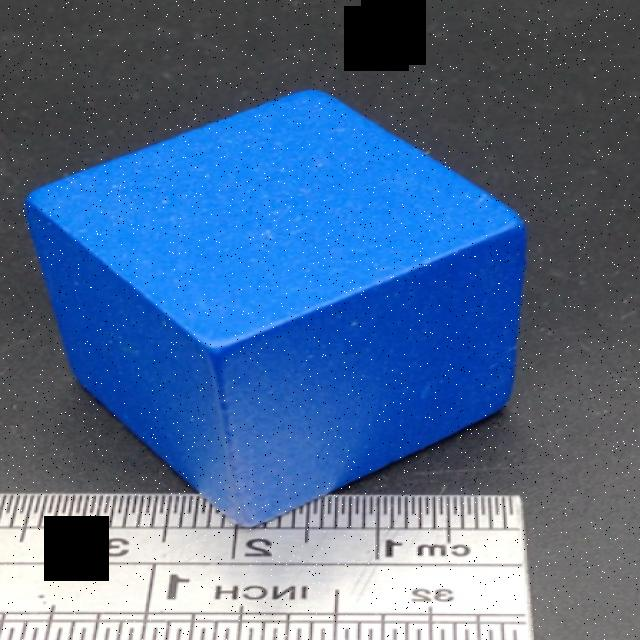bluecube: (23, 90, 528, 530)
